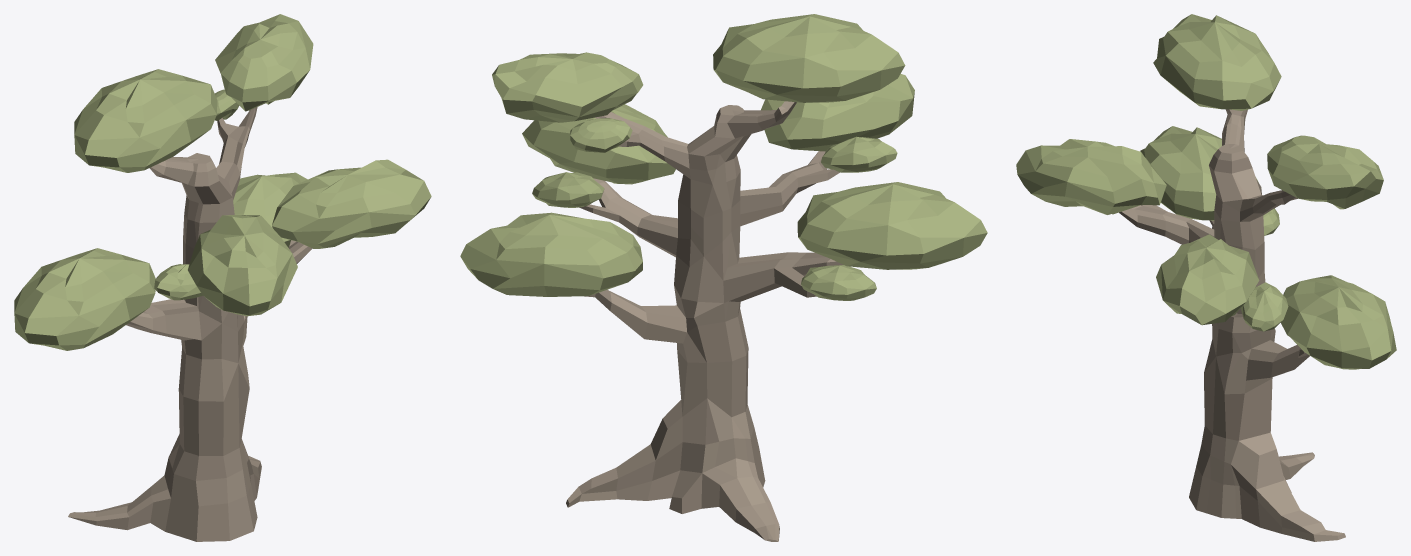
Rendered from ER_Asset_Tree01.fbx.
3 renders of one model, left to right at view 1: azimuth 30°, elevation 25°; view 2: azimuth 150°, elevation 25°; view 3: azimuth 270°, elevation 25°, orthographic. The views are drawn at different scales.
Visible parts, largest first — view 1: pSphere12; view 2: pSphere12; view 3: pSphere12.
Boxes of the visible parts, x1=… form: pSphere12: x1=14, y1=14, x2=431, y2=541; pSphere12: x1=460, y1=14, x2=987, y2=541; pSphere12: x1=1016, y1=14, x2=1396, y2=541.
Bounding box in the file's own units: 11.31 × 12.14 × 9.41.
